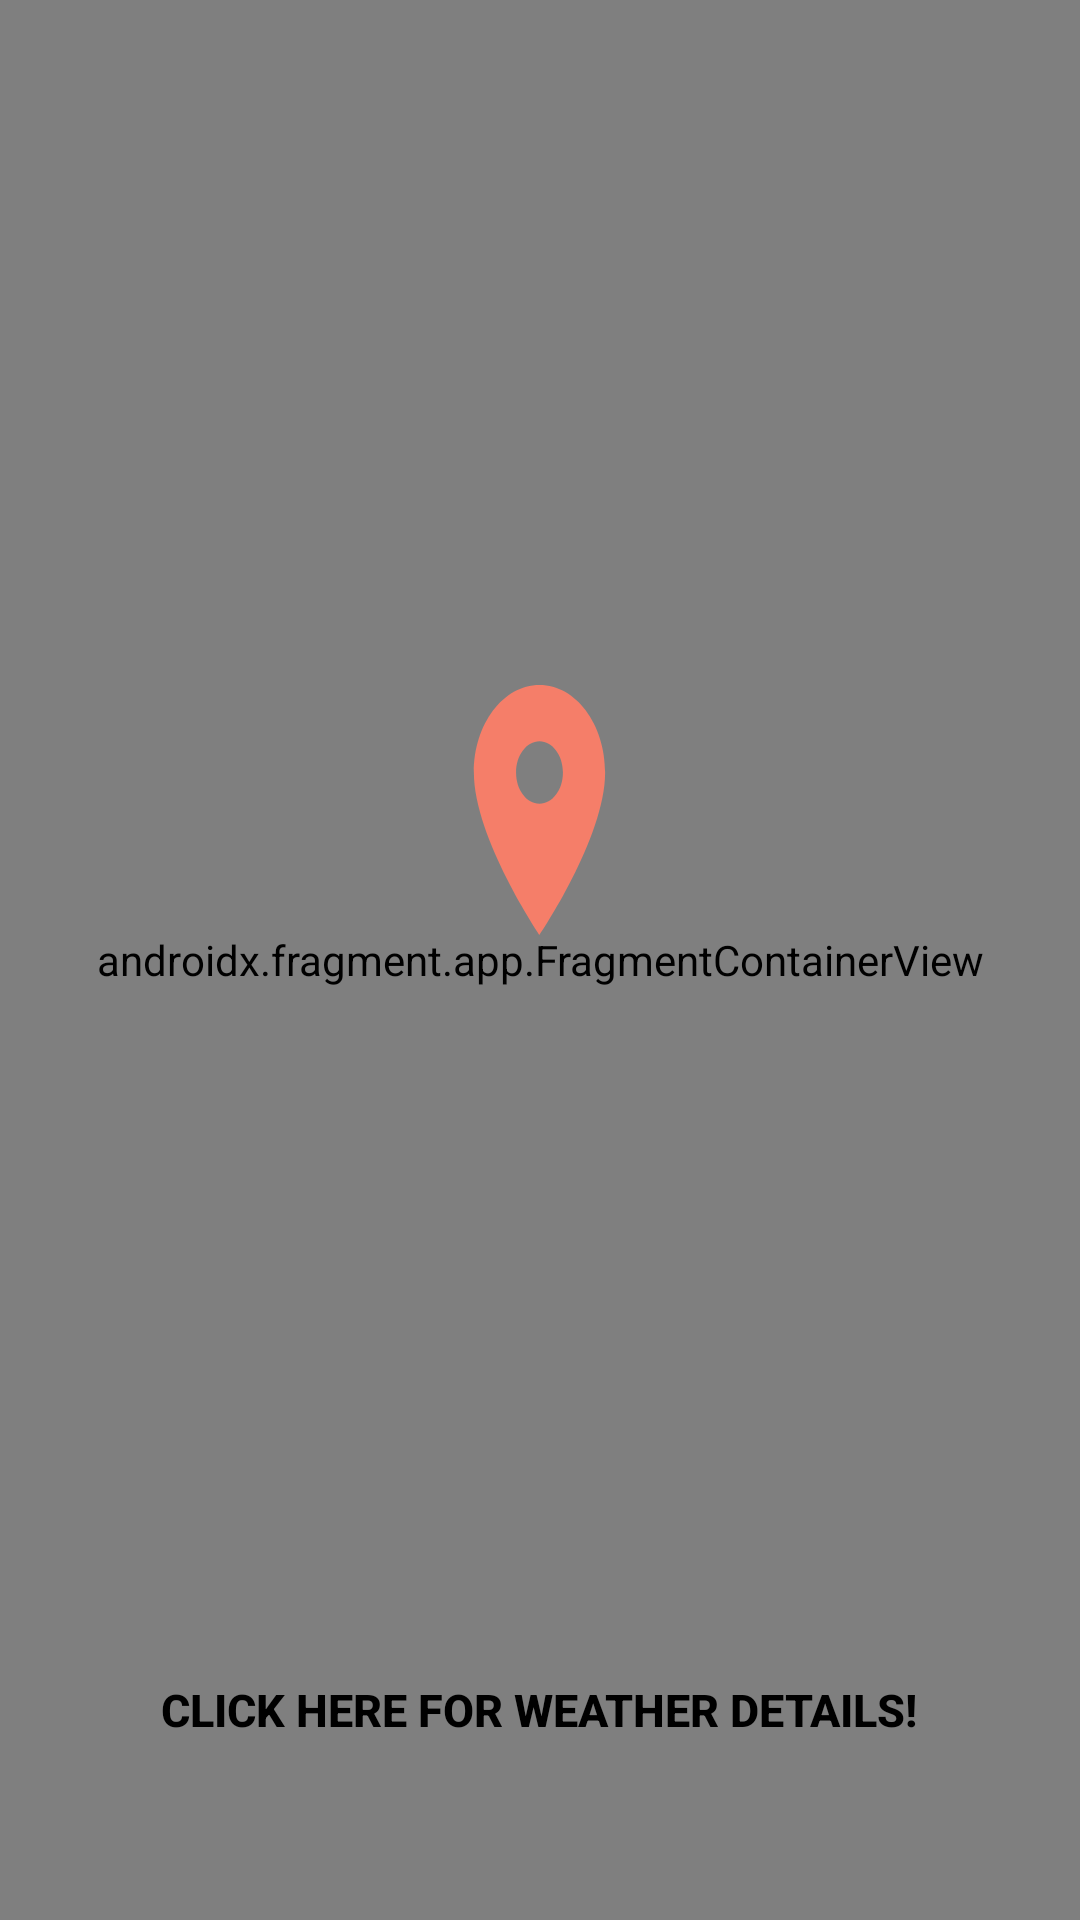

Icon bounding boxes for this 1080 x 1920 phone screenshot, format box=[x1, y1, x2, y2]:
marker image: box=[473, 685, 605, 935]
